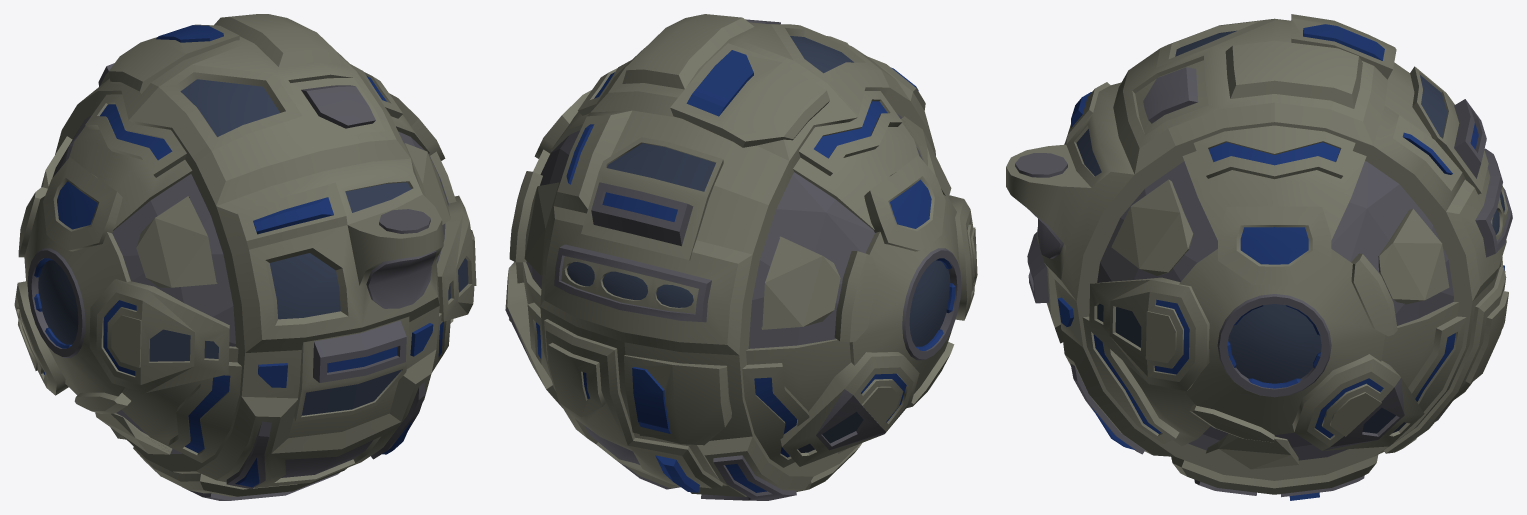
Rendered from LPSciFi_SphereBuilding.fbx.
3 views of the same model, side by side, from view 1: azimuth 30°, elevation 25°; view 2: azimuth 150°, elevation 25°; view 3: azimuth 270°, elevation 25° (orthographic). The views are drawn at different scales.
Visible parts, largest first — view 1: SphereBuilding; view 2: SphereBuilding; view 3: SphereBuilding.
Boxes of the visible parts, <box> form: SphereBuilding: <box>14,14,476,500</box>; SphereBuilding: <box>505,14,977,500</box>; SphereBuilding: <box>1006,14,1512,500</box>.
Size of the model in its own units: 1776 by 1972 by 2033.
